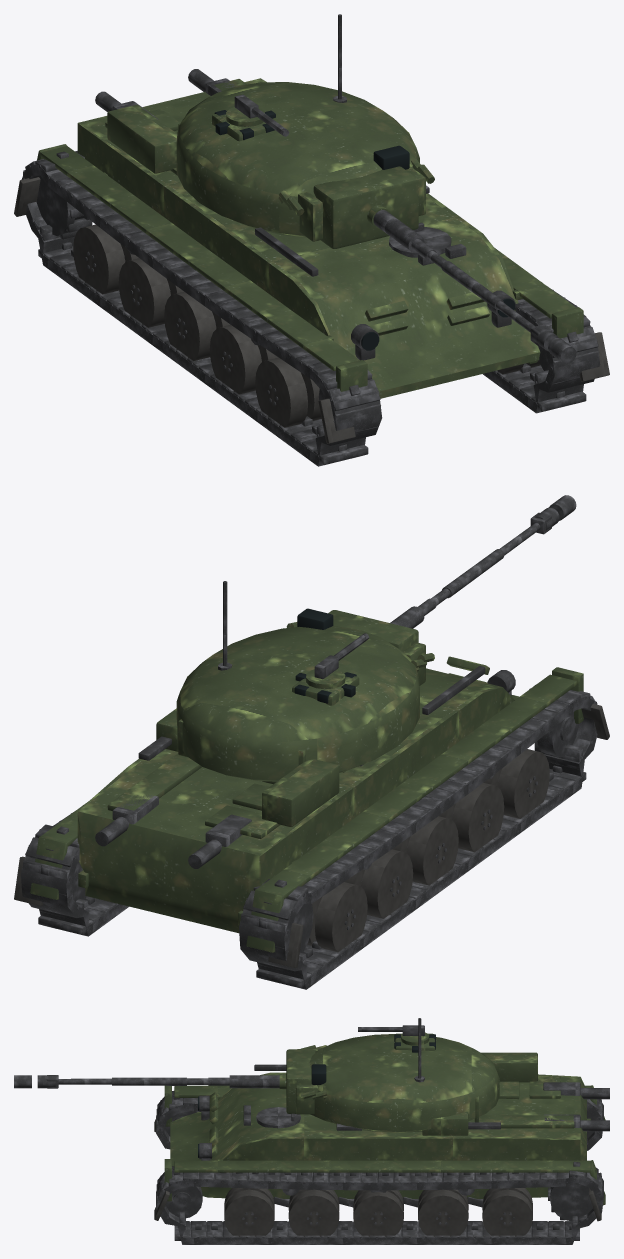
The picture shows the model from 3 angles, top to bottom: view 1: azimuth 30°, elevation 25°; view 2: azimuth 150°, elevation 25°; view 3: azimuth 270°, elevation 25°; orthographic projection. The views are drawn at different scales.
Parts seen in each view (by area): view 1: lt, lt_turret, lt_hull_details, lt_link1, lt_track1, lt_turret_armor, lt_wheel1_4, lt_hull_metal, lt_link-1, lt_wheel1_3, lt_wheel1_0, lt_wheel1_2 (+9 smaller); view 2: lt, lt_turret, lt_hull_details, lt_link1, lt_track1, lt_hull_metal, lt_turret_armor, lt_wheel1_0, lt_wheel1_1, lt_wheel1_4, lt_wheel1_2, lt_wheel1_3 (+8 smaller); view 3: lt, lt_turret, lt_hull_details, lt_link-1, lt_track-1, lt_hull_metal, lt_turret_armor, lt_wheel-1_4, lt_wheel-1_0, lt_wheel-1_3, lt_wheel-1_1, lt_wheel-1_2 (+11 smaller).
Boxes of the visible parts, <box> form: lt: <box>77,78,540,398</box>; lt_turret: <box>176,82,419,237</box>; lt_hull_details: <box>37,79,583,391</box>; lt_link1: <box>22,151,380,464</box>; lt_track1: <box>21,164,382,466</box>; lt_turret_armor: <box>178,107,434,248</box>; lt_wheel1_4: <box>255,357,321,427</box>; lt_hull_metal: <box>95,69,466,276</box>; lt_link-1: <box>493,288,599,411</box>; lt_wheel1_3: <box>209,325,278,394</box>; lt_wheel1_0: <box>73,224,138,294</box>; lt_wheel1_2: <box>164,291,230,360</box>; lt: <box>77,668,519,933</box>; lt_turret: <box>176,626,419,781</box>; lt_hull_details: <box>30,656,583,952</box>; lt_link1: <box>240,685,595,988</box>; lt_track1: <box>239,696,597,989</box>; lt_hull_metal: <box>95,666,485,868</box>; lt_turret_armor: <box>178,610,434,765</box>; lt_wheel1_0: <box>307,882,367,951</box>; lt_wheel1_1: <box>344,849,413,918</box>; lt_wheel1_4: <box>484,749,549,818</box>; lt_wheel1_2: <box>392,816,458,885</box>; lt_wheel1_3: <box>439,782,504,852</box>; lt: <box>170,1072,586,1198</box>; lt_turret: <box>309,1033,499,1132</box>; lt_hull_details: <box>164,1052,605,1205</box>; lt_link-1: <box>156,1160,602,1240</box>; lt_track-1: <box>156,1172,603,1244</box>; lt_hull_metal: <box>243,1064,609,1131</box>; lt_turret_armor: <box>279,1032,478,1122</box>; lt_wheel-1_4: <box>224,1188,274,1236</box>; lt_wheel-1_0: <box>482,1188,532,1236</box>; lt_wheel-1_3: <box>288,1189,339,1236</box>; lt_wheel-1_1: <box>418,1189,468,1236</box>; lt_wheel-1_2: <box>353,1190,403,1236</box>.
Bounding box in the file's own units: 310 × 298 × 801.
